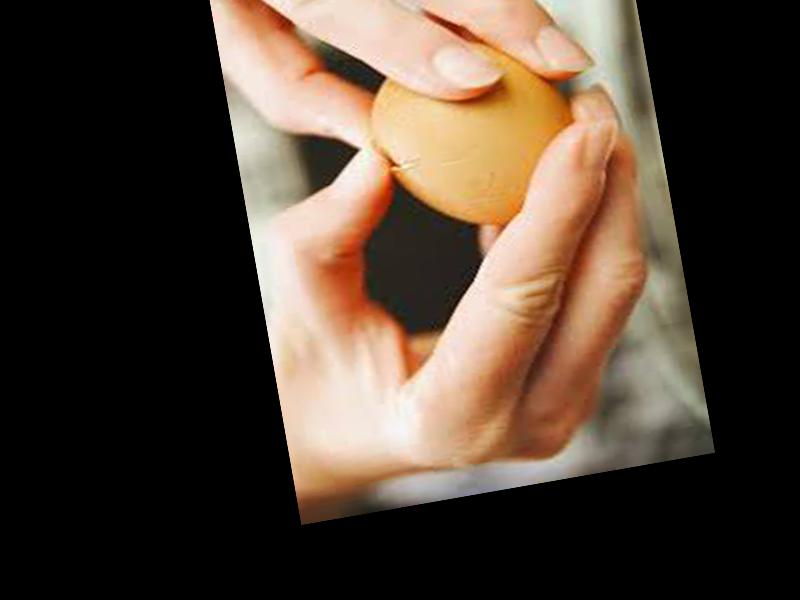Eggs: (357, 25, 591, 243)
